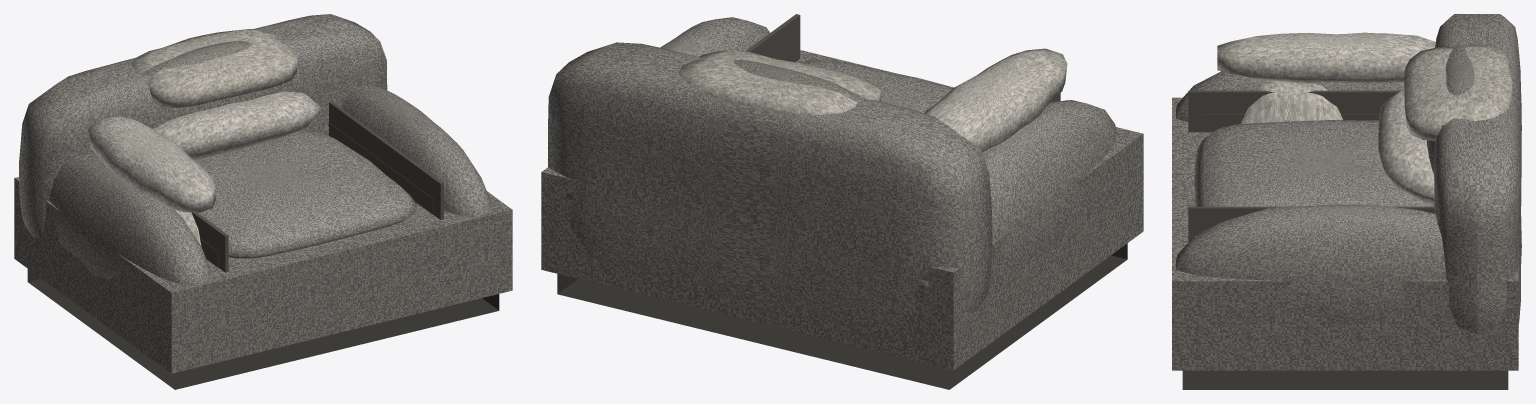
The model's file is armchair5.glb.
3 renders of one model, left to right at view 1: azimuth 30°, elevation 25°; view 2: azimuth 150°, elevation 25°; view 3: azimuth 270°, elevation 25°, orthographic. The views are drawn at different scales.
Visible parts, largest first — view 1: root; view 2: root; view 3: root.
Boxes of the visible parts, x1=… form: root: x1=14, y1=14, x2=512, y2=389; root: x1=541, y1=14, x2=1143, y2=389; root: x1=1172, y1=14, x2=1521, y2=389.
Bounding box in the file's own units: 1.54 × 0.8853 × 1.21.
Materials: 8 (6 with a texture image).
